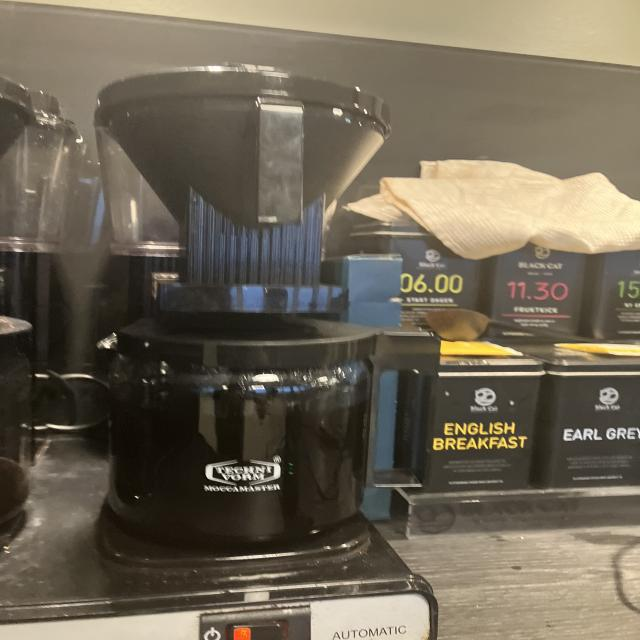coffee: (100, 315, 372, 545)
